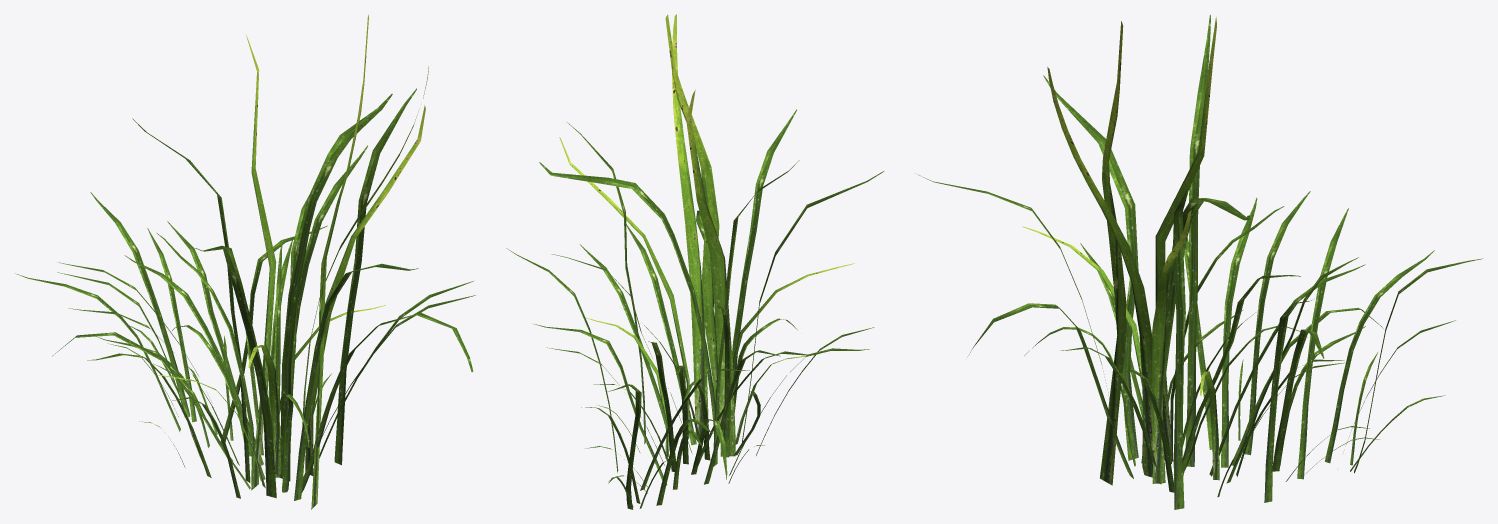
The model's file is Grass.glb.
3 views of the same model, side by side, from view 1: azimuth 30°, elevation 25°; view 2: azimuth 150°, elevation 25°; view 3: azimuth 270°, elevation 25° (orthographic). The views are drawn at different scales.
Visible parts, largest first — view 1: Grass10; view 2: Grass10; view 3: Grass10.
Part boxes in pixels (x1=…): Grass10: x1=15, y1=14, x2=475, y2=509; Grass10: x1=506, y1=14, x2=883, y2=509; Grass10: x1=918, y1=14, x2=1482, y2=509.
Size of what is drawn, in the model's own units: 0.0613 by 0.0769 by 0.0805.
1 material, 1 textured.
